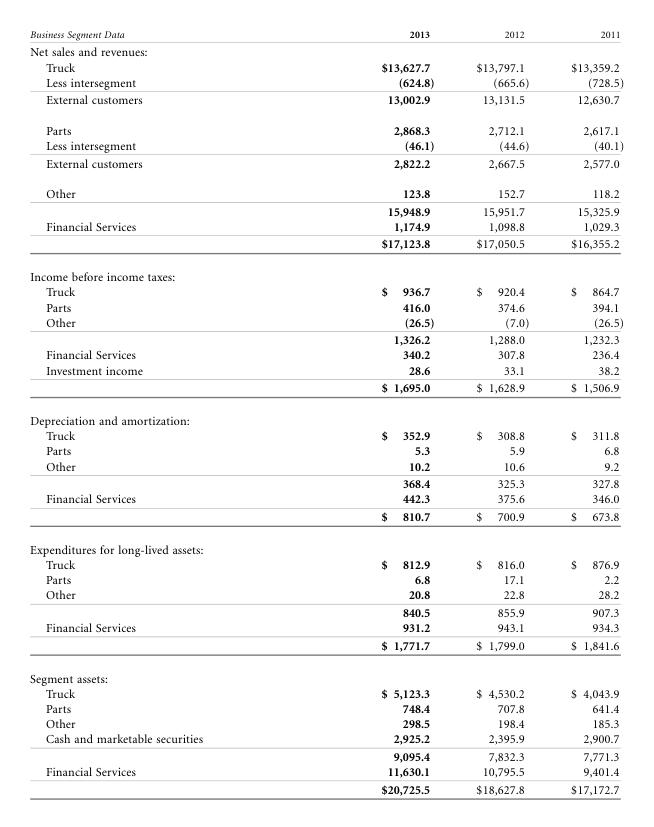table: (29, 29, 623, 795)
table column: (29, 29, 291, 795), (291, 29, 454, 795), (454, 29, 549, 795), (549, 29, 623, 795)
table column header: (29, 29, 623, 42)
table projected row header: (29, 260, 623, 284), (29, 404, 623, 428), (29, 661, 623, 685), (29, 533, 623, 556), (29, 42, 623, 59)
table row: (29, 234, 623, 260), (29, 378, 623, 404), (29, 507, 623, 533), (29, 636, 623, 661), (29, 91, 623, 115), (29, 154, 623, 178), (29, 178, 623, 202), (29, 260, 623, 284), (29, 404, 623, 428), (29, 661, 623, 685), (29, 533, 623, 556), (29, 115, 623, 137), (29, 42, 623, 59), (29, 74, 623, 91), (29, 137, 623, 154), (29, 330, 623, 347), (29, 474, 623, 491), (29, 603, 623, 620), (29, 763, 623, 780), (29, 202, 623, 218), (29, 218, 623, 234), (29, 314, 623, 330), (29, 362, 623, 378), (29, 458, 623, 474), (29, 491, 623, 507), (29, 556, 623, 572), (29, 587, 623, 603), (29, 620, 623, 636), (29, 715, 623, 731), (29, 731, 623, 747), (29, 747, 623, 763), (29, 59, 623, 74), (29, 284, 623, 299), (29, 299, 623, 314), (29, 347, 623, 362), (29, 428, 623, 443), (29, 443, 623, 458), (29, 572, 623, 587), (29, 685, 623, 700), (29, 700, 623, 715), (29, 780, 623, 795), (29, 29, 623, 42)
